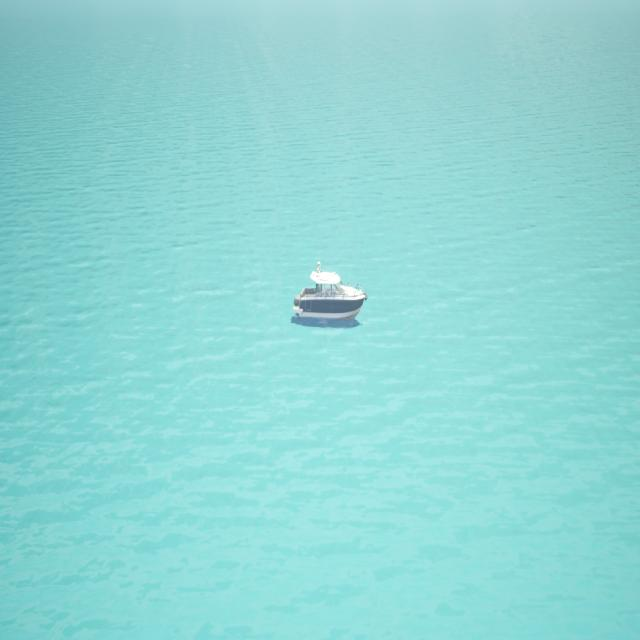ship: (291, 260, 368, 326)
